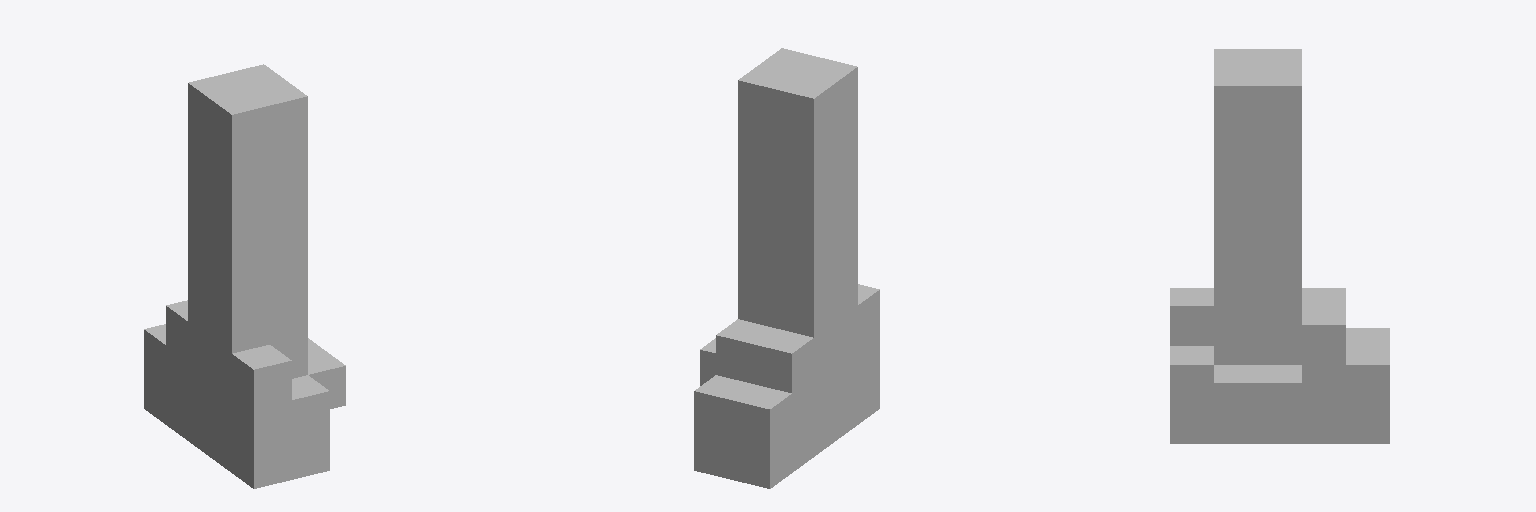
The model's file is JAMBES-R.obj.
3 renders of one model, left to right at view 1: azimuth 30°, elevation 25°; view 2: azimuth 150°, elevation 25°; view 3: azimuth 270°, elevation 25°, orthographic.
Visible parts, largest first — view 1: object 1; view 2: object 1; view 3: object 1.
Part boxes in pixels (x1,y1,x2,y2): object 1: (144, 64, 345, 488); object 1: (694, 48, 879, 488); object 1: (1170, 49, 1389, 443).
Bounding box in the file's own units: 0.3 × 0.9 × 0.5.